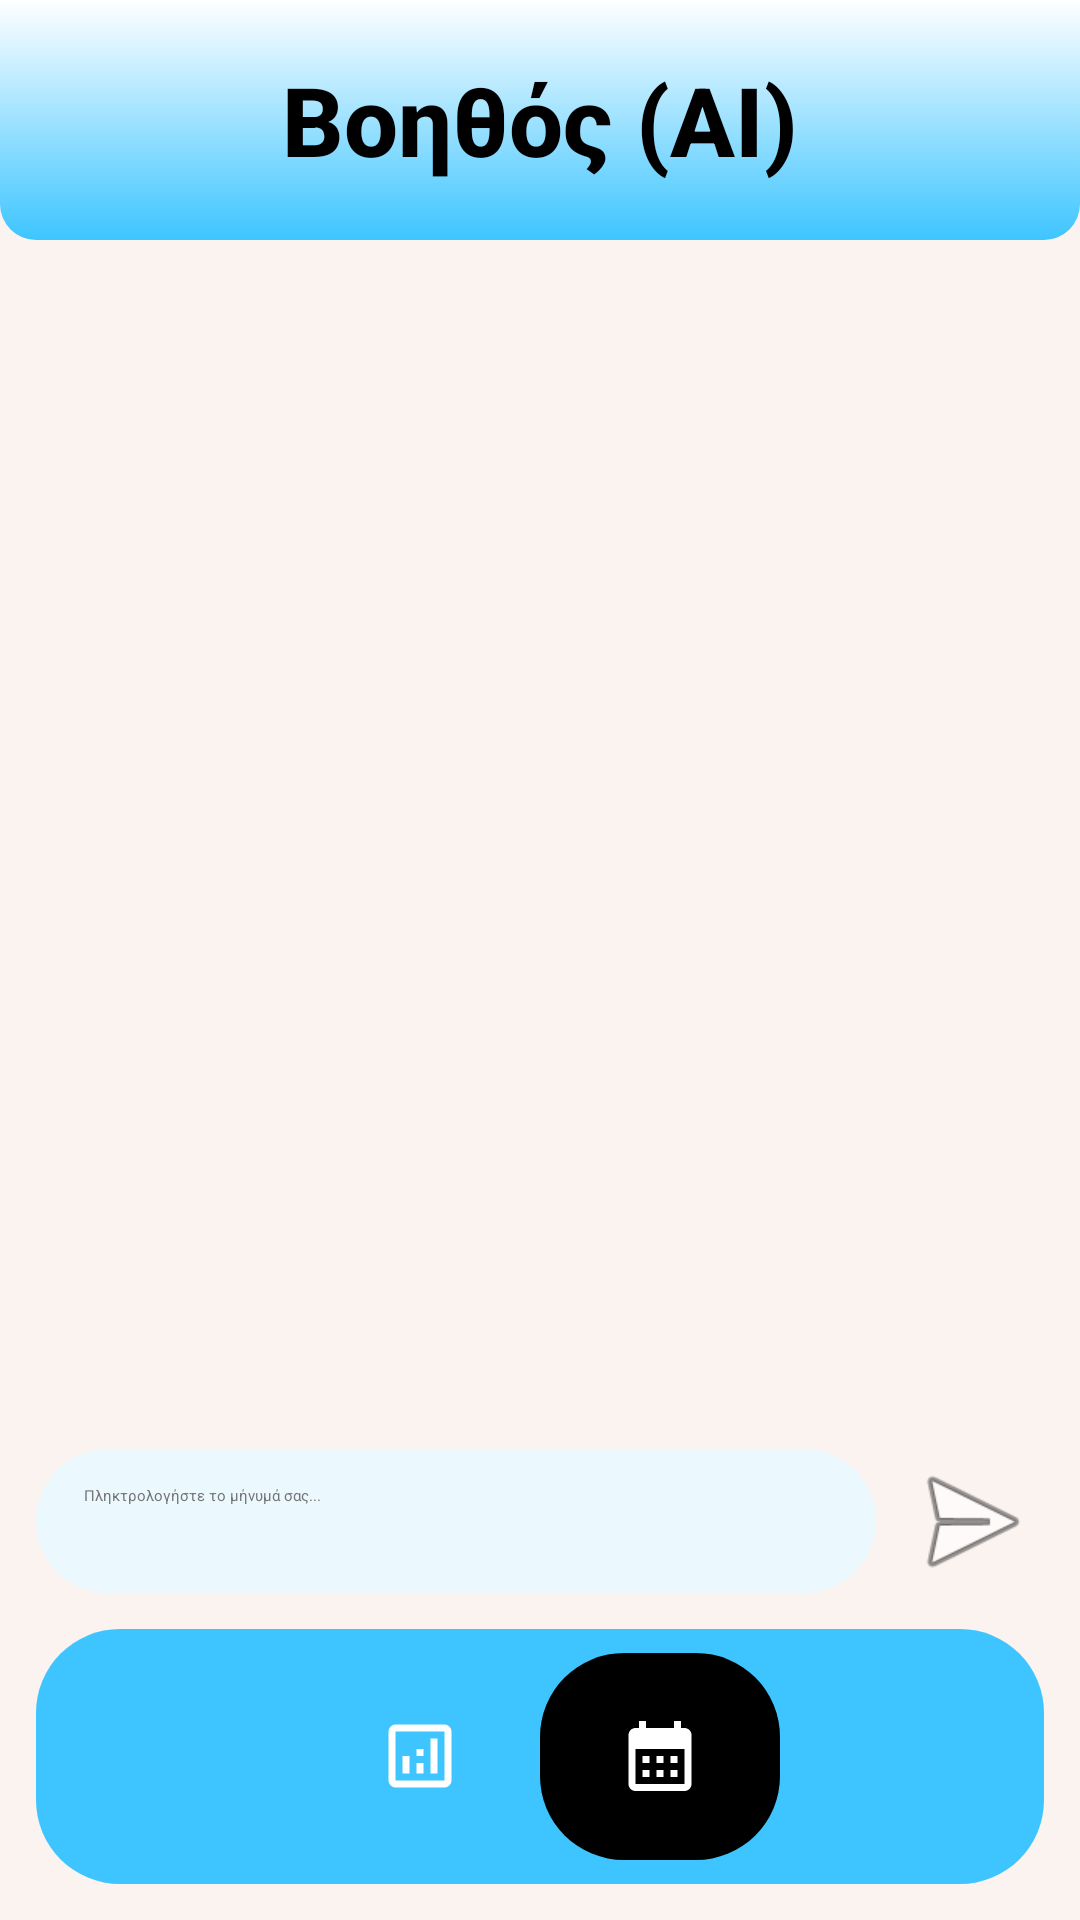

Icon click points for this 1080x1920 phone screenshot, format (x,y):
calendar: (660,1756)
progress: (420,1756)
Send: (973,1521)
